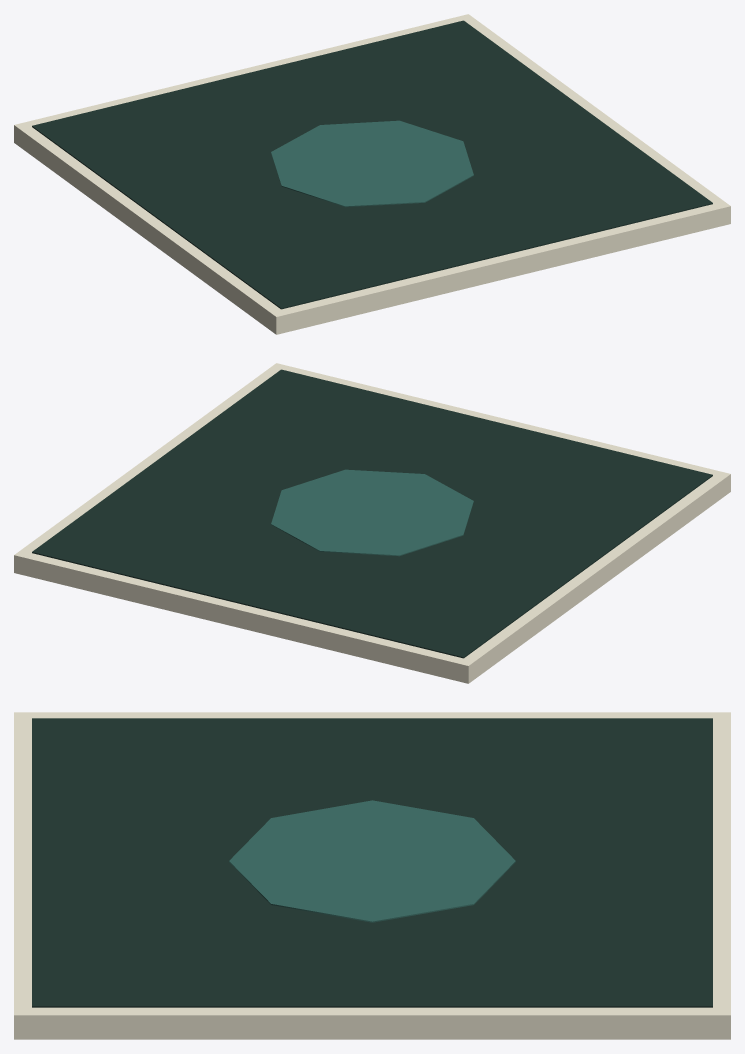
The model's file is CB_ENV_VN_Floor_Tile_A.glb.
3 renders of one model, top to bottom at view 1: azimuth 30°, elevation 25°; view 2: azimuth 150°, elevation 25°; view 3: azimuth 270°, elevation 25°, orthographic. The views are drawn at different scales.
Visible parts, largest first — view 1: CB_ENV_VN_Floor_Tile_A; view 2: CB_ENV_VN_Floor_Tile_A; view 3: CB_ENV_VN_Floor_Tile_A.
Boxes of the visible parts, box(x1,y1,x2,y2) form: CB_ENV_VN_Floor_Tile_A: box(14, 14, 730, 334); CB_ENV_VN_Floor_Tile_A: box(14, 363, 730, 683); CB_ENV_VN_Floor_Tile_A: box(14, 712, 730, 1039).
Bounding box in the file's own units: 4 × 0.1675 × 4.
